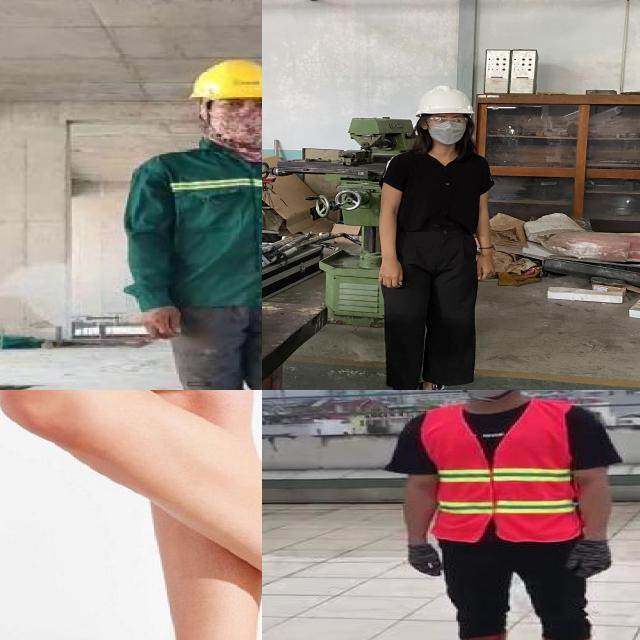Sandals: (0, 564, 262, 640)
face_mask: (204, 99, 262, 144), (424, 112, 471, 144), (451, 390, 522, 399)
glasses: (424, 114, 472, 127)
hand_glove: (561, 542, 611, 578), (410, 543, 446, 579)
hand_noglove: (133, 303, 186, 347), (373, 257, 408, 292), (476, 253, 495, 282)
head_helmet: (182, 56, 262, 105), (411, 84, 477, 117)
person: (383, 390, 630, 640), (118, 49, 262, 390), (364, 81, 508, 390)
shoes: (408, 380, 472, 390)
vest: (417, 398, 581, 544)
